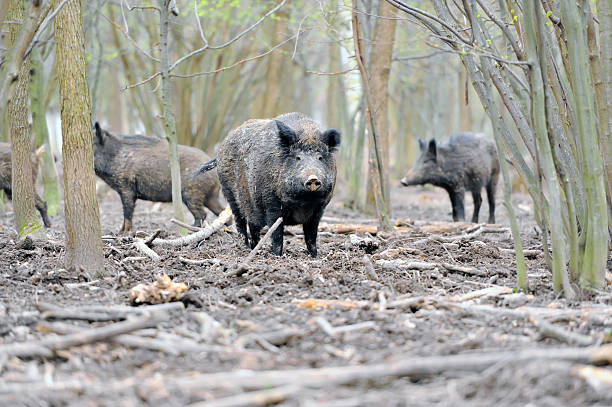pig: (264, 119, 337, 211), (392, 136, 462, 195)
